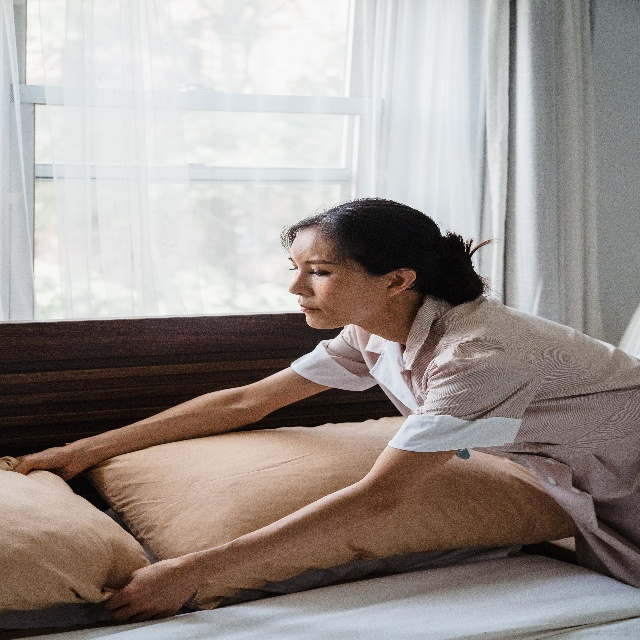Sin_guantes: (102, 553, 188, 624), (12, 437, 75, 487)
